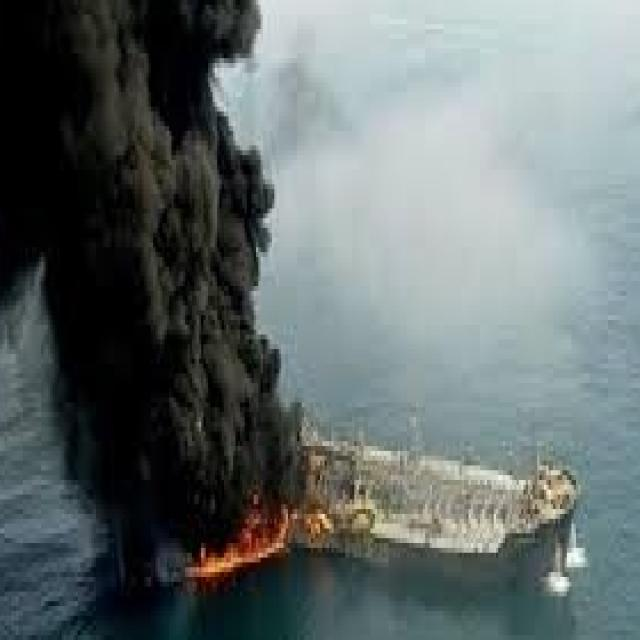cargoship: (284, 414, 580, 559)
